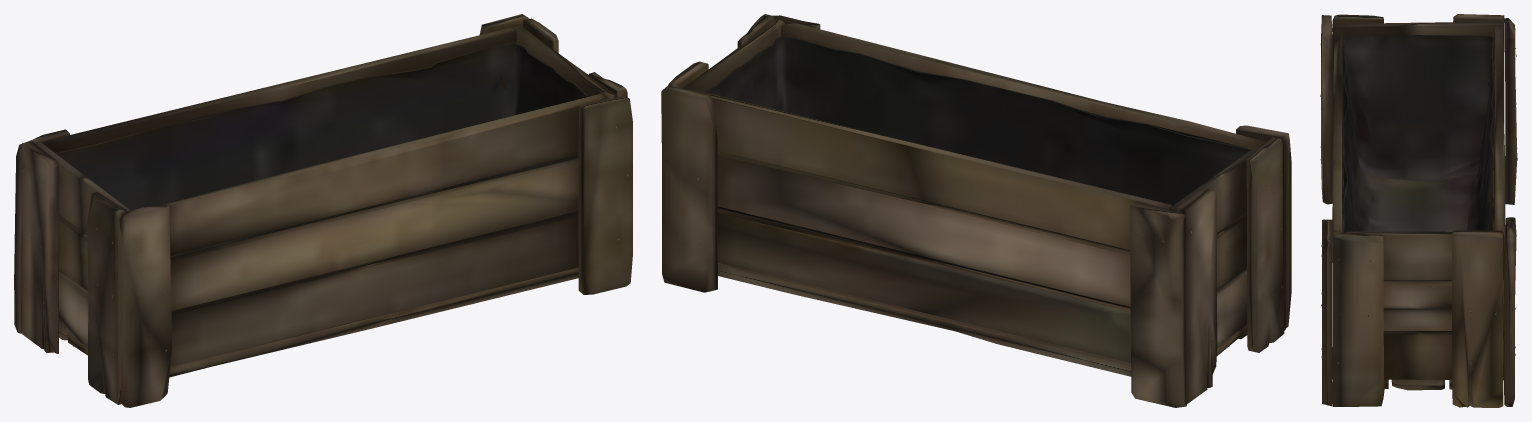
The model's file is jardiniere_bac_bois_lod1.glb.
3 views of the same model, side by side, from view 1: azimuth 30°, elevation 25°; view 2: azimuth 150°, elevation 25°; view 3: azimuth 270°, elevation 25° (orthographic). The views are drawn at different scales.
Parts seen in each view (by area): view 1: planter_box_02; view 2: planter_box_02; view 3: planter_box_02.
Part boxes in pixels (bbox=[...]): planter_box_02: bbox=[14, 14, 632, 407]; planter_box_02: bbox=[661, 14, 1291, 407]; planter_box_02: bbox=[1320, 14, 1517, 407].
Bounding box in the file's own units: 1.25 × 0.4515 × 0.467.
Materials: 1 (1 with a texture image).
